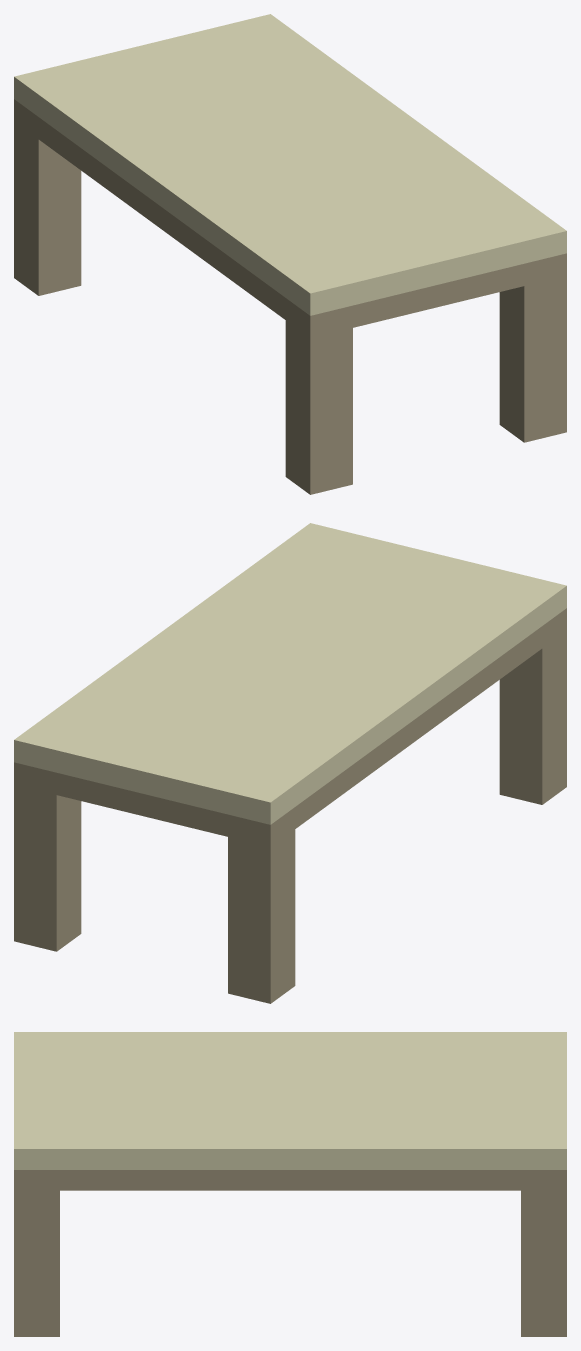
File: mesa_trabajo_pino_01.glb
The picture shows the model from 3 angles, top to bottom: view 1: azimuth 30°, elevation 25°; view 2: azimuth 150°, elevation 25°; view 3: azimuth 270°, elevation 25°; orthographic projection. The views are drawn at different scales.
Visible parts, largest first — view 1: mesa_trabajo_pino; view 2: mesa_trabajo_pino; view 3: mesa_trabajo_pino.
Boxes of the visible parts, <box> form: mesa_trabajo_pino: <box>14,14,566,494</box>; mesa_trabajo_pino: <box>14,523,566,1003</box>; mesa_trabajo_pino: <box>14,1032,566,1336</box>.
Bounding box in the file's own units: 1 × 0.75 × 2.
